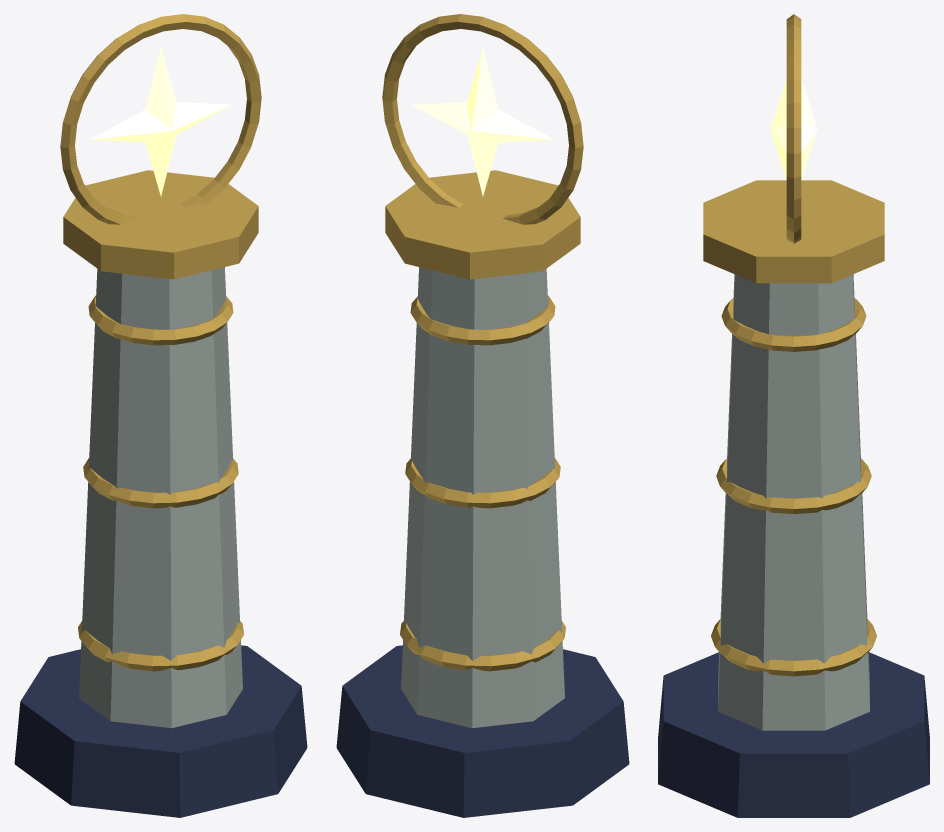
The model's file is star_pillar.glb.
3 views of the same model, side by side, from view 1: azimuth 30°, elevation 25°; view 2: azimuth 150°, elevation 25°; view 3: azimuth 270°, elevation 25° (orthographic).
Visible parts, largest first — view 1: PillarBody, PillarGem; view 2: PillarBody, PillarGem; view 3: PillarBody, PillarGem.
Boxes of the visible parts, left/top/right/bottom form: PillarBody: left=14, top=14, right=307, bottom=817; PillarGem: left=90, top=48, right=231, bottom=196; PillarBody: left=336, top=14, right=629, bottom=817; PillarGem: left=412, top=48, right=553, bottom=196; PillarBody: left=658, top=14, right=929, bottom=817; PillarGem: left=770, top=79, right=817, bottom=180.
Bounding box in the file's own units: 1.39 × 4.14 × 1.39.
